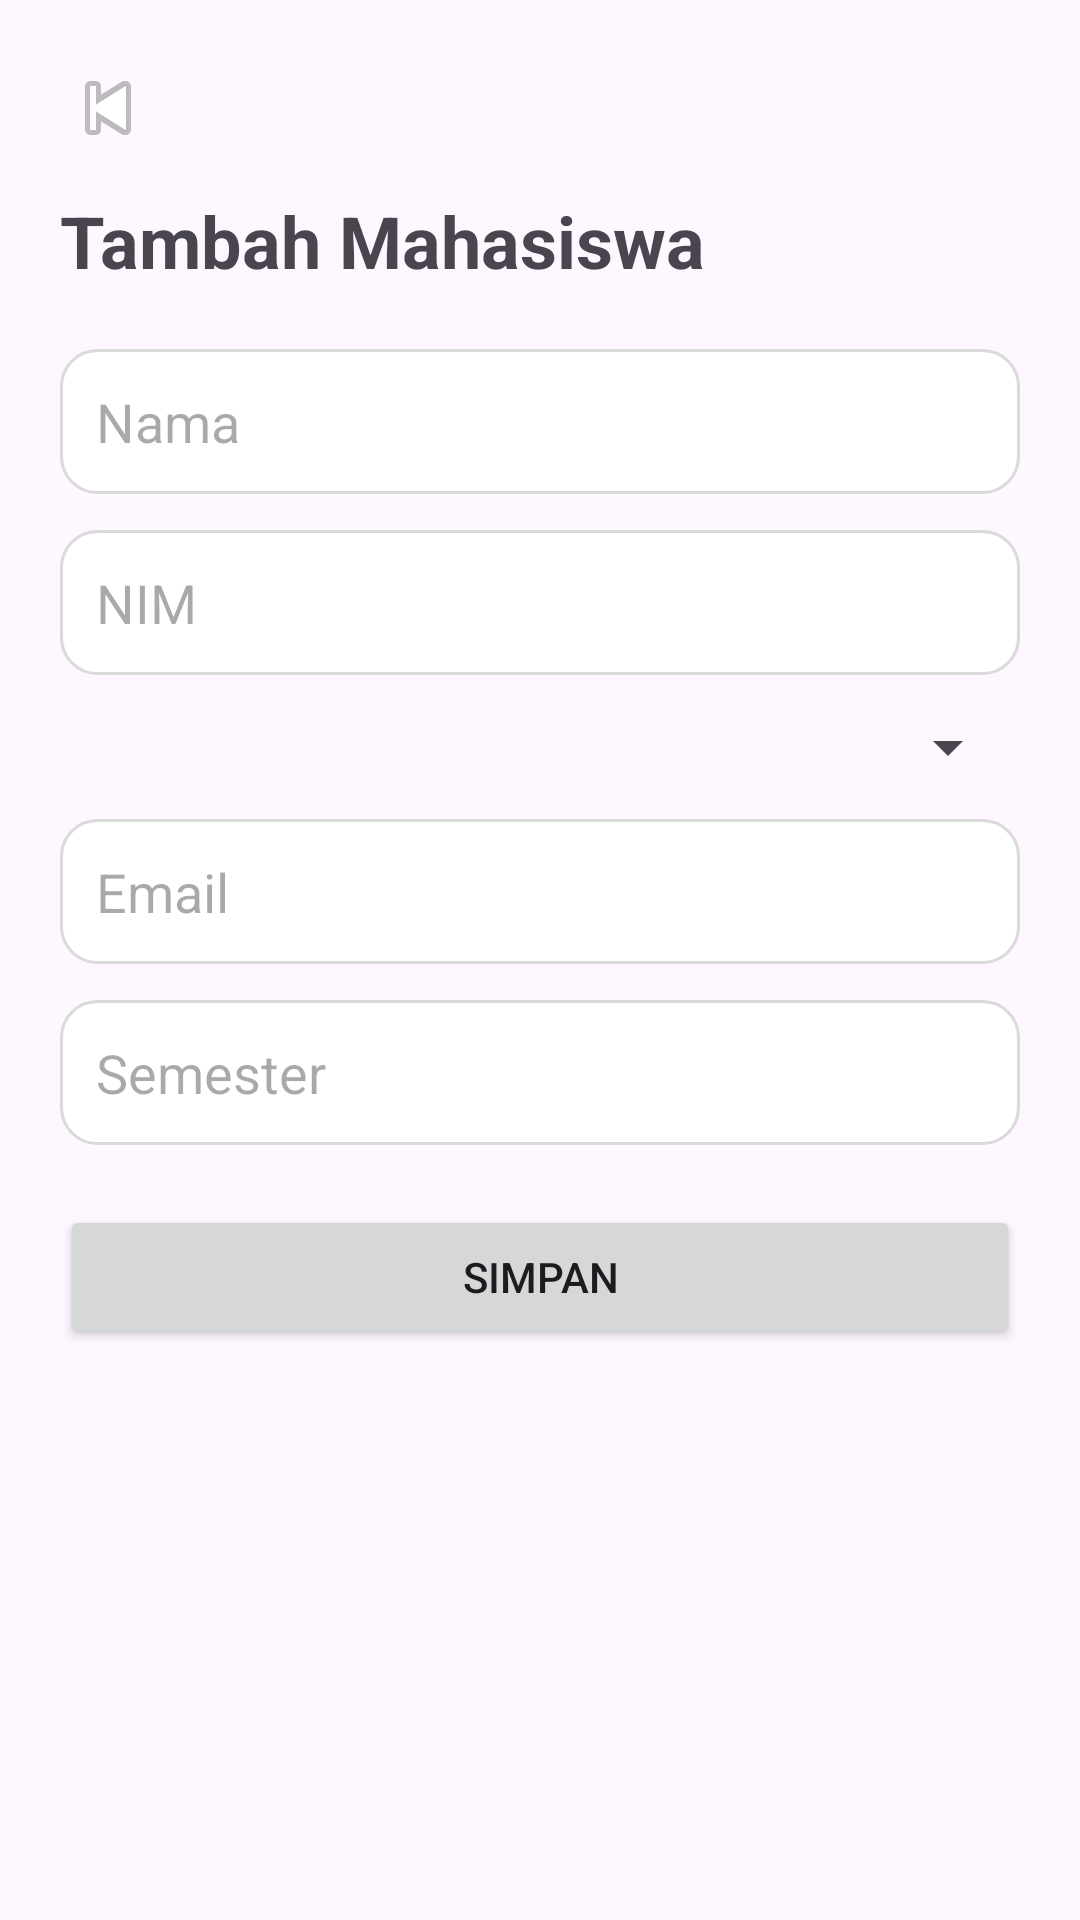

Where icons sit on this 1080px×1920px app screen, as (x1, y1, x2, y2):
previous: (85, 81, 131, 135)
